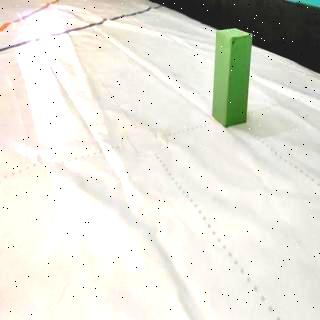greenbox: (210, 27, 253, 129)
